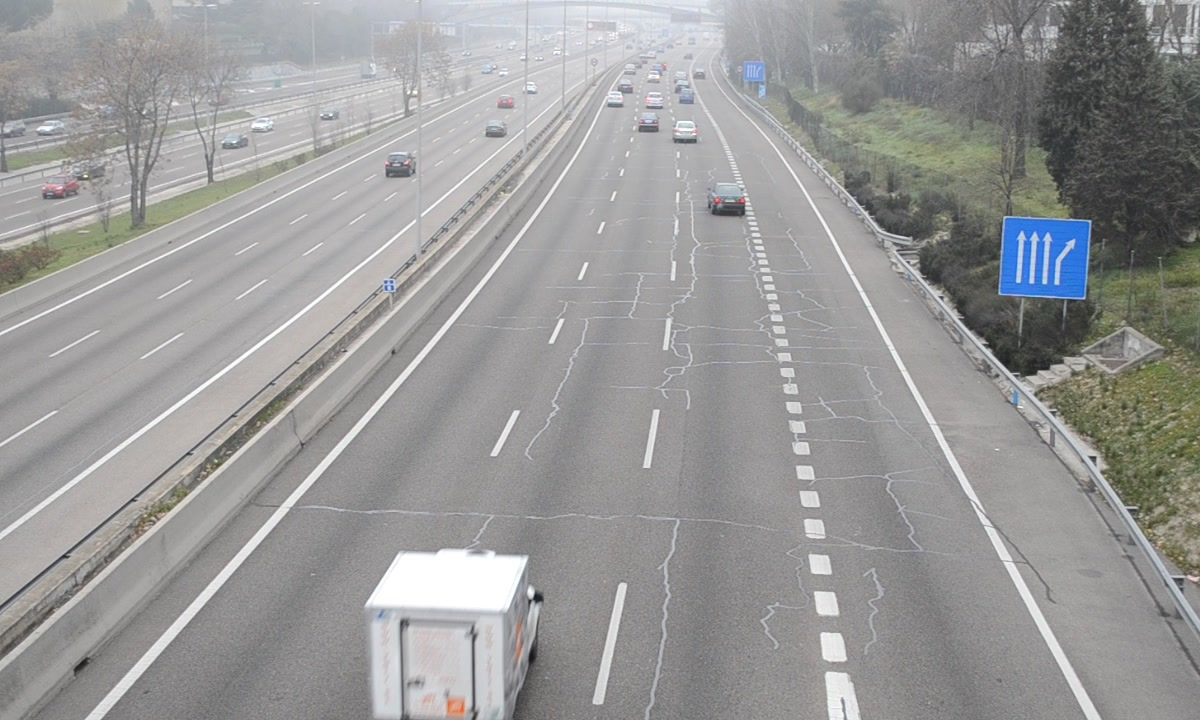car: (707, 180, 746, 216)
small-truck: (365, 549, 546, 720)
